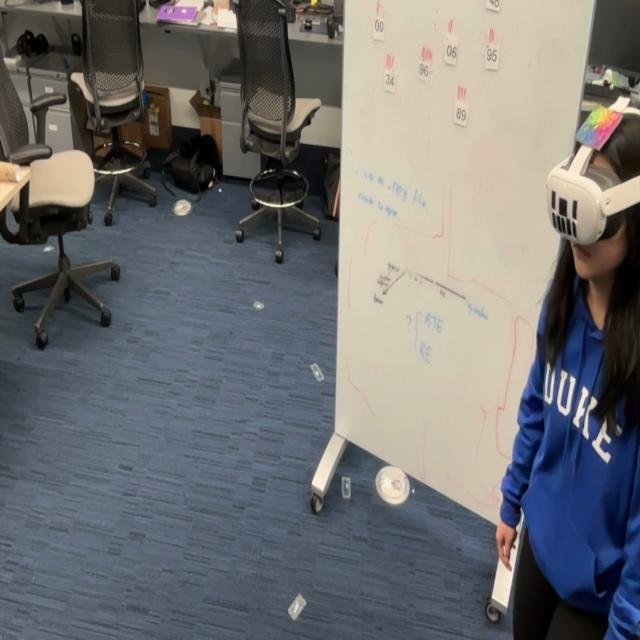Headset: (546, 109, 639, 247)
Marker: (574, 97, 626, 153)
